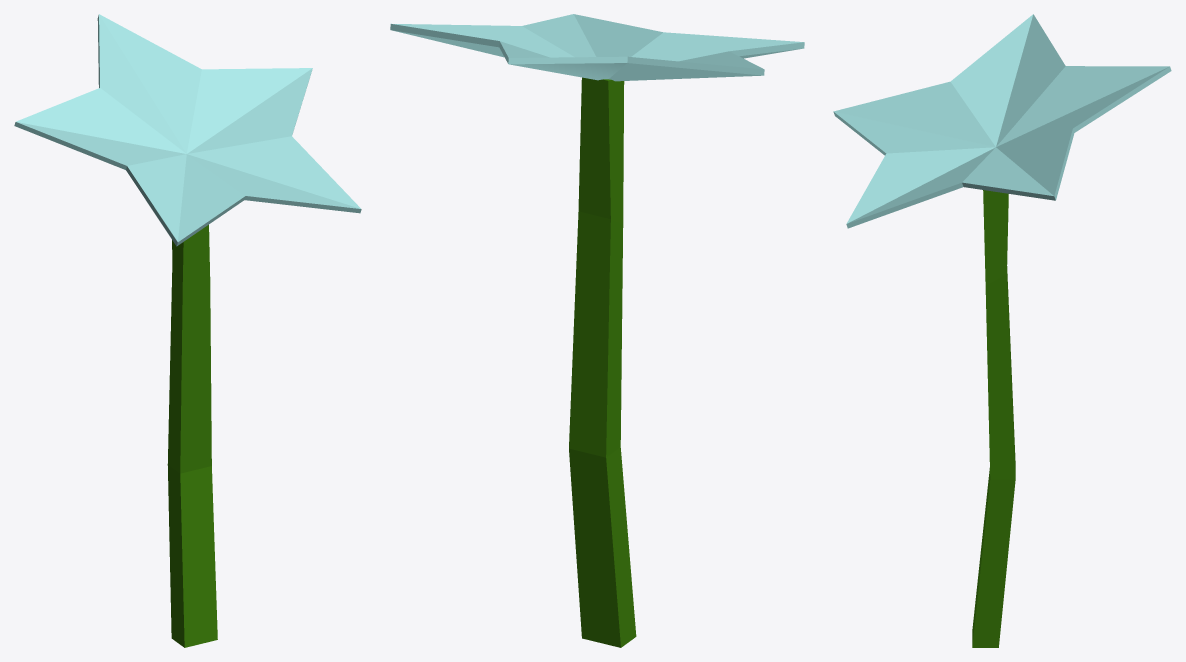
File: Flower_d_02.fbx
3 views of the same model, side by side, from view 1: azimuth 30°, elevation 25°; view 2: azimuth 150°, elevation 25°; view 3: azimuth 270°, elevation 25° (orthographic). The views are drawn at different scales.
Parts seen in each view (by area): view 1: Flower_d_02_LOD0; view 2: Flower_d_02_LOD0; view 3: Flower_d_02_LOD0.
Part boxes in pixels (left/top/right/bottom): Flower_d_02_LOD0: left=14, top=14, right=361, bottom=647; Flower_d_02_LOD0: left=390, top=14, right=804, bottom=647; Flower_d_02_LOD0: left=833, top=14, right=1171, bottom=647.
Size of what is drawn, in the model's own units: 2.06 by 3.58 by 1.93.
